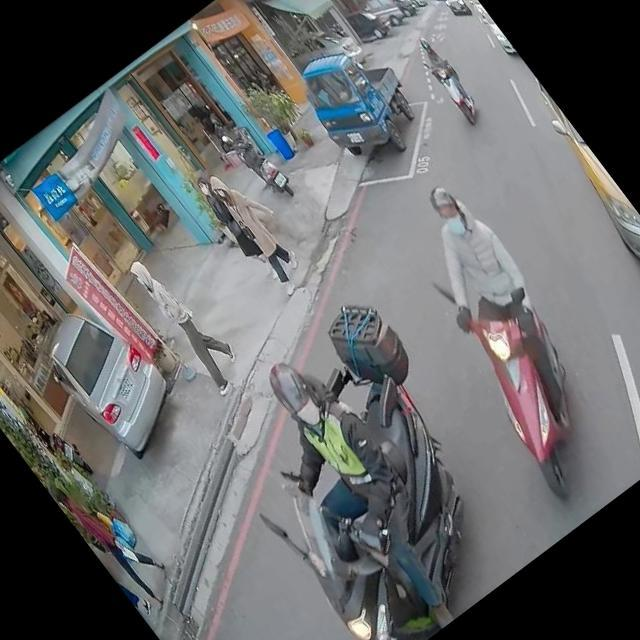person: (210, 337, 490, 640), (372, 172, 618, 454), (43, 454, 186, 622), (119, 242, 255, 402), (193, 153, 314, 293), (188, 160, 301, 292), (408, 32, 484, 121)
